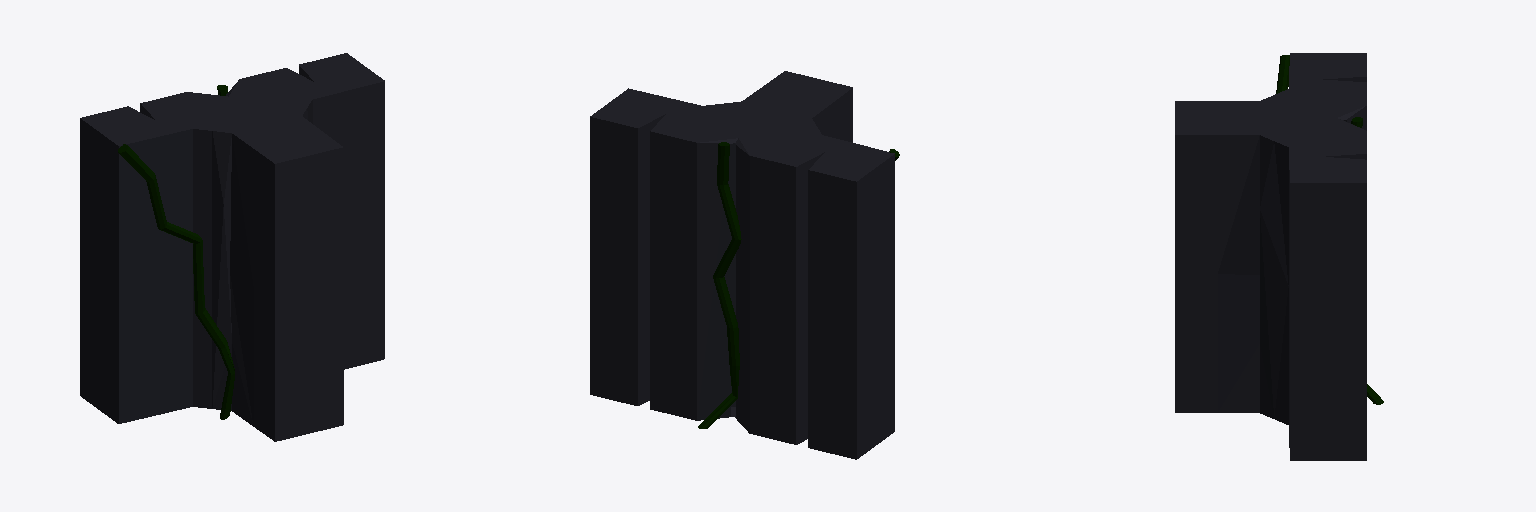
Rendered from Wall_Tsplit.obj.
The picture shows the model from 3 angles: view 1: azimuth 30°, elevation 25°; view 2: azimuth 150°, elevation 25°; view 3: azimuth 270°, elevation 25°; orthographic projection.
Parts seen in each view (by area): view 1: Cube, Cube.001; view 2: Cube, Cube.003; view 3: Cube.
Boxes of the visible parts, <box> form: Cube: <box>80,53,384,441</box>; Cube.001: <box>118,144,234,419</box>; Cube: <box>590,71,894,459</box>; Cube.003: <box>698,142,741,428</box>; Cube: <box>1175,53,1366,460</box>.
Size of the model in its own units: 4.05 by 4.02 by 2.73.